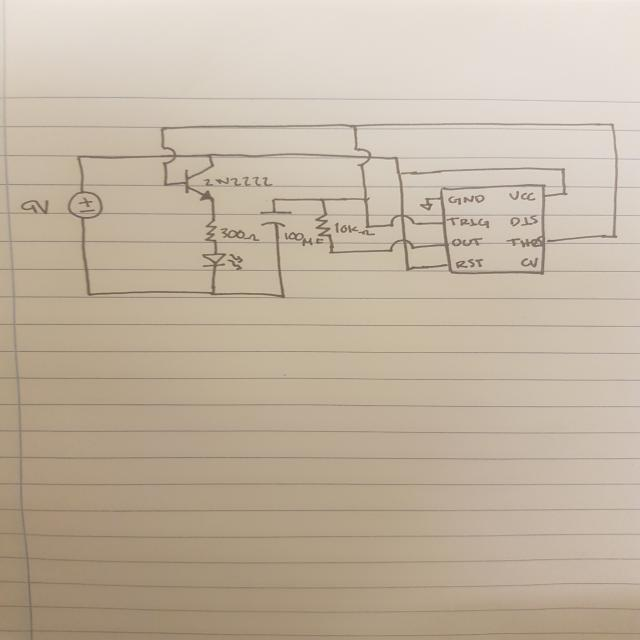capacitor: (256, 210, 294, 228)
crossover: (387, 238, 416, 255), (350, 147, 372, 167), (389, 214, 417, 227), (159, 146, 177, 166)
diode: (199, 252, 244, 272)
ground: (418, 203, 434, 212)
junction: (279, 292, 288, 300), (84, 292, 94, 298), (351, 123, 359, 130), (403, 266, 411, 272), (362, 196, 370, 202), (75, 155, 84, 160), (160, 126, 167, 132), (611, 234, 619, 239), (328, 250, 335, 255), (364, 224, 371, 229), (318, 197, 325, 202), (396, 171, 403, 176), (559, 168, 567, 172), (608, 122, 616, 126), (423, 197, 431, 201), (562, 191, 568, 196), (393, 156, 399, 161), (162, 182, 168, 187), (207, 154, 214, 158), (210, 291, 215, 296), (271, 198, 277, 202)
resistor: (314, 213, 332, 238), (204, 218, 218, 242)
source: (66, 190, 106, 220)
text: (202, 176, 274, 188), (283, 230, 323, 246), (219, 227, 261, 242), (445, 216, 490, 229), (505, 235, 543, 248), (447, 194, 485, 206), (20, 199, 50, 214), (508, 215, 539, 227), (332, 221, 358, 234), (508, 190, 536, 202), (451, 237, 484, 247), (454, 258, 484, 269), (519, 258, 539, 268)
transistor: (182, 163, 219, 205)
